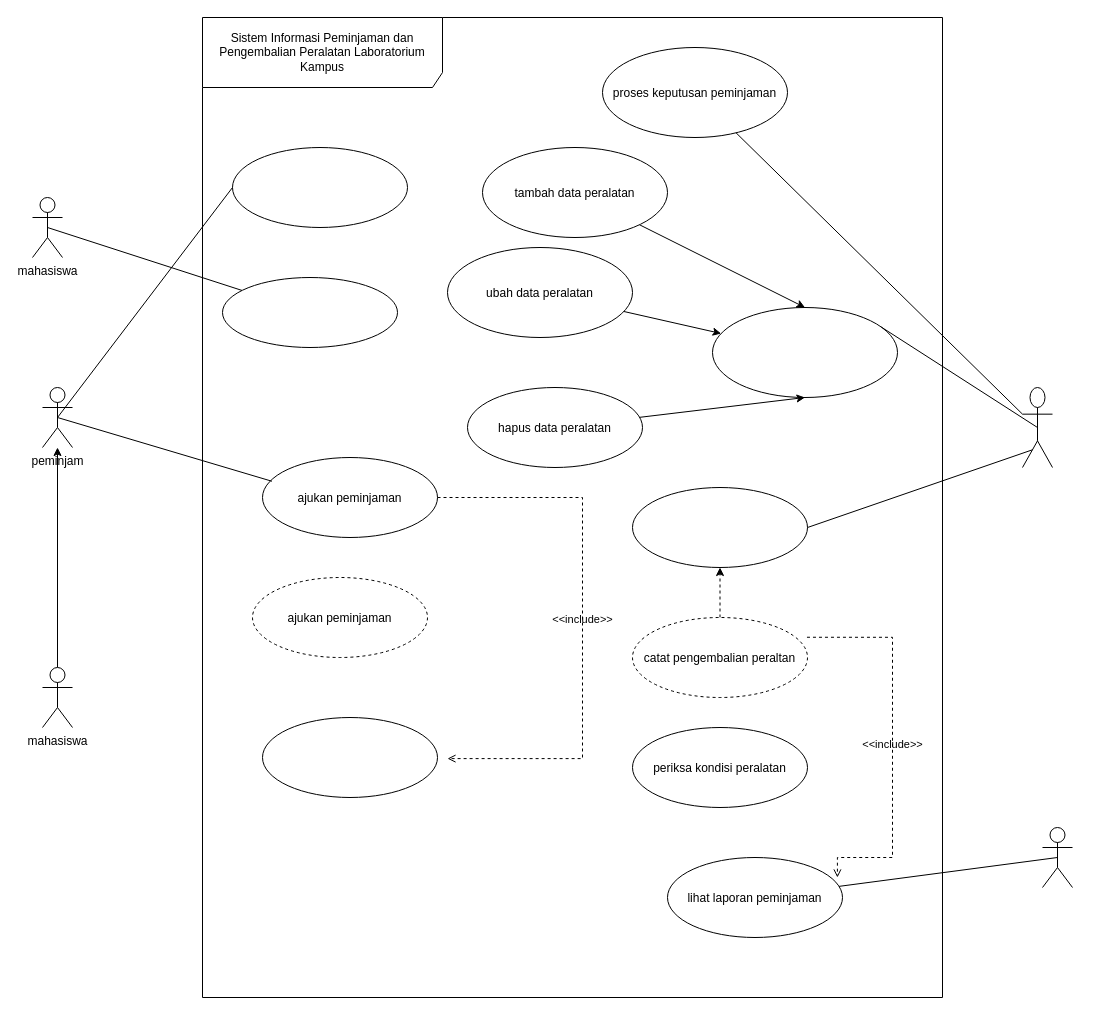
Image size: 1108x1015. Some labels were removed from this diagram. Each missing label, with the centre of its shape:
"catat pengembalian peralatan" belongs at pixel 720 527.
"cetak bukti pengajuan" belongs at pixel 310 312.
"kelola data peralatan" belongs at pixel 805 352.
"kepala laboratorium" belongs at pixel 1057 857.
"lihat ketersediaan peralatan" belongs at pixel 320 187.
"periksa ketersediaan" belongs at pixel 350 757.
"petugas l laboratorium" belongs at pixel 1037 427.
